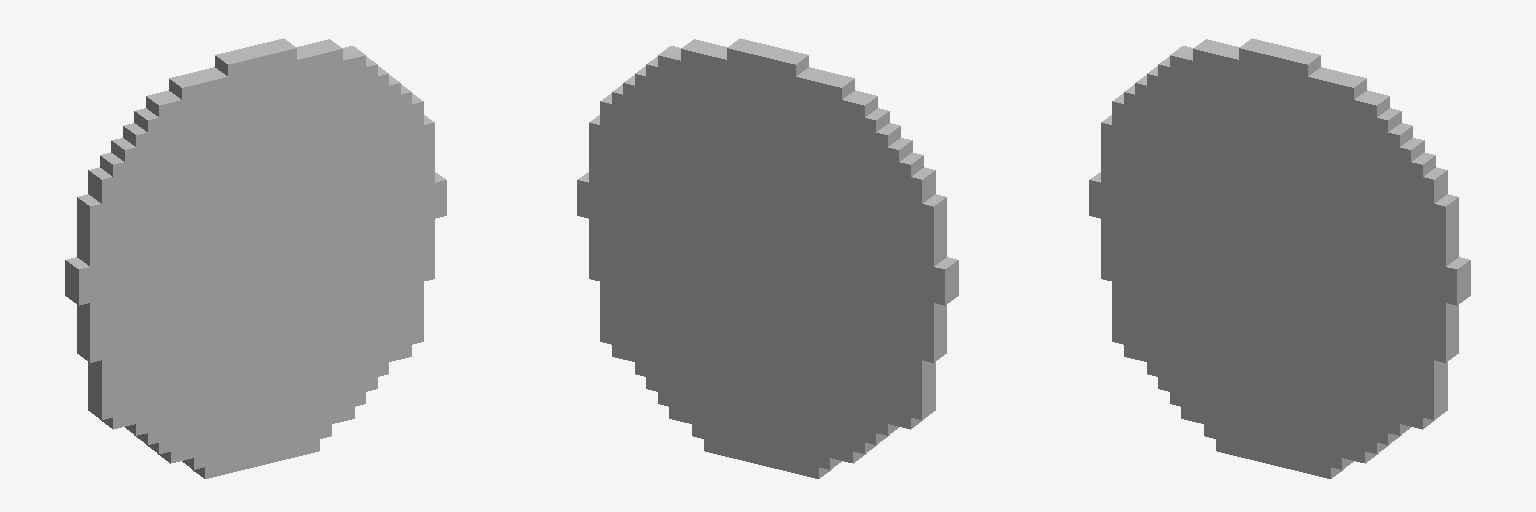
Rendered from lion rune.obj.
3 renders of one model, left to right at view 1: azimuth 30°, elevation 25°; view 2: azimuth 150°, elevation 25°; view 3: azimuth 330°, elevation 25°, orthographic.
Visible parts, largest first — view 1: lion rune; view 2: lion rune; view 3: lion rune.
Boxes of the visible parts, x1=… form: lion rune: x1=65, y1=38, x2=446, y2=478; lion rune: x1=577, y1=38, x2=958, y2=478; lion rune: x1=1089, y1=38, x2=1470, y2=478.
Bounding box in the file's own units: 32 × 34 × 2.